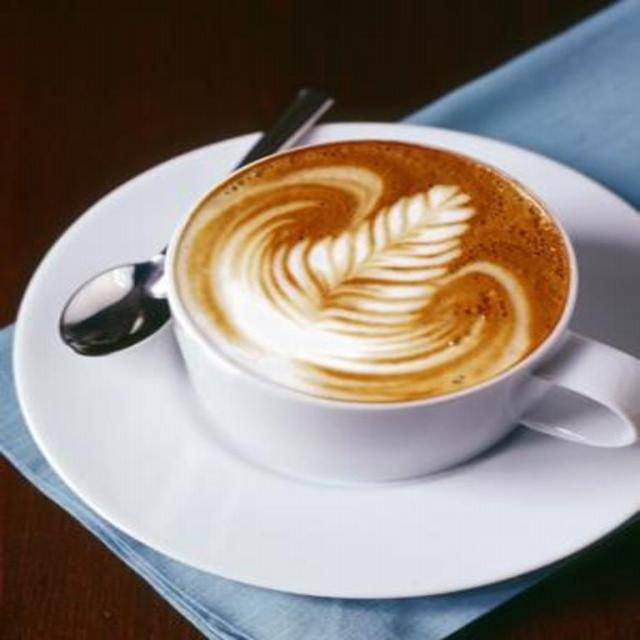Coffee: (179, 141, 580, 405)
